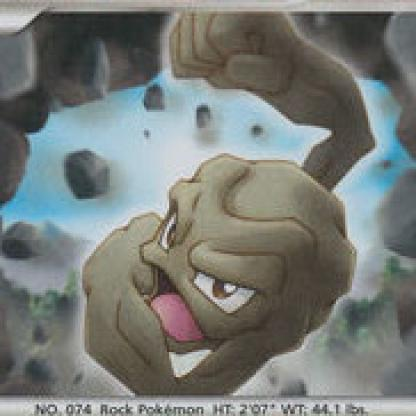Geodude: (1, 21, 416, 416)
